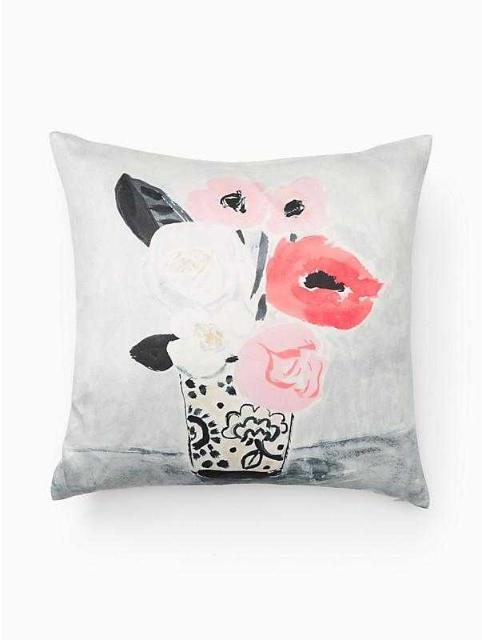pillow: (47, 128, 434, 508)
